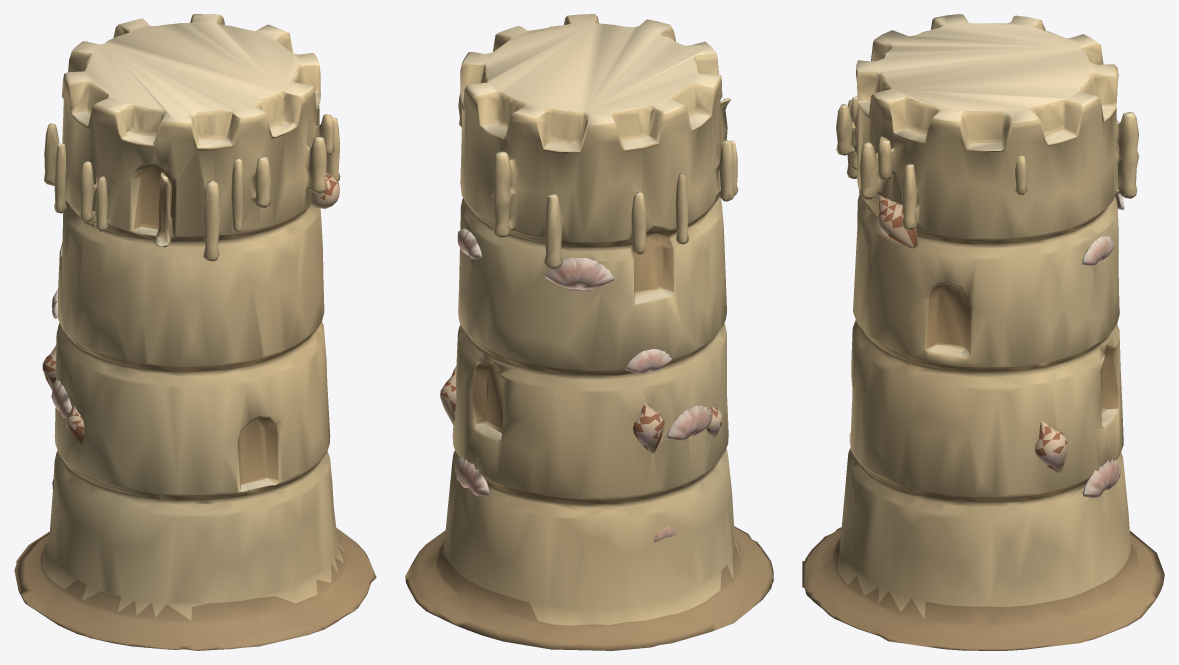
The model's file is shore_castle_keep_lod1.glb.
3 renders of one model, left to right at view 1: azimuth 30°, elevation 25°; view 2: azimuth 150°, elevation 25°; view 3: azimuth 270°, elevation 25°, orthographic.
Parts seen in each view (by area): view 1: shore_castle_keep.001; view 2: shore_castle_keep.001; view 3: shore_castle_keep.001.
Part boxes in pixels (box(x1,y1,x2,y2)): shore_castle_keep.001: box(14, 14, 376, 650); shore_castle_keep.001: box(405, 14, 773, 650); shore_castle_keep.001: box(802, 14, 1164, 650).
Bounding box in the file's own units: 15.39 × 24 × 15.53.
